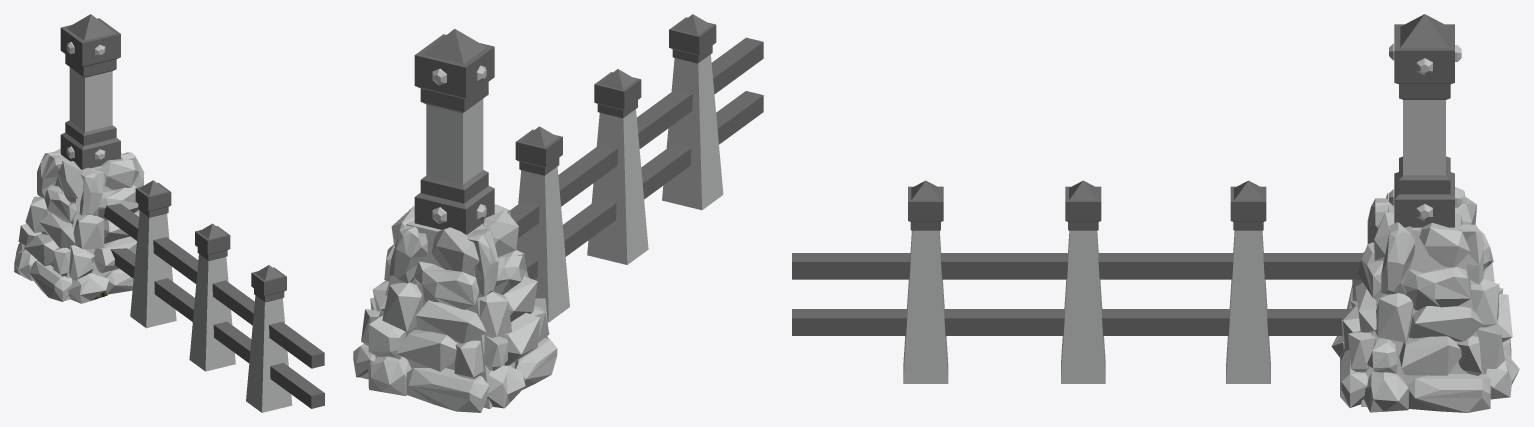
File: Fence_06.glb
3 renders of one model, left to right at view 1: azimuth 30°, elevation 25°; view 2: azimuth 150°, elevation 25°; view 3: azimuth 270°, elevation 25°, orthographic. The views are drawn at different scales.
Parts seen in each view (by area): view 1: Fense_6; view 2: Fense_6; view 3: Fense_6.
Part boxes in pixels (box(x1,y1,x2,y2)): Fense_6: box(14, 14, 324, 412); Fense_6: box(353, 14, 763, 412); Fense_6: box(792, 14, 1519, 412).
Size of the model in its own units: 1.19 by 2.34 by 4.28.
1 material, 1 textured.
